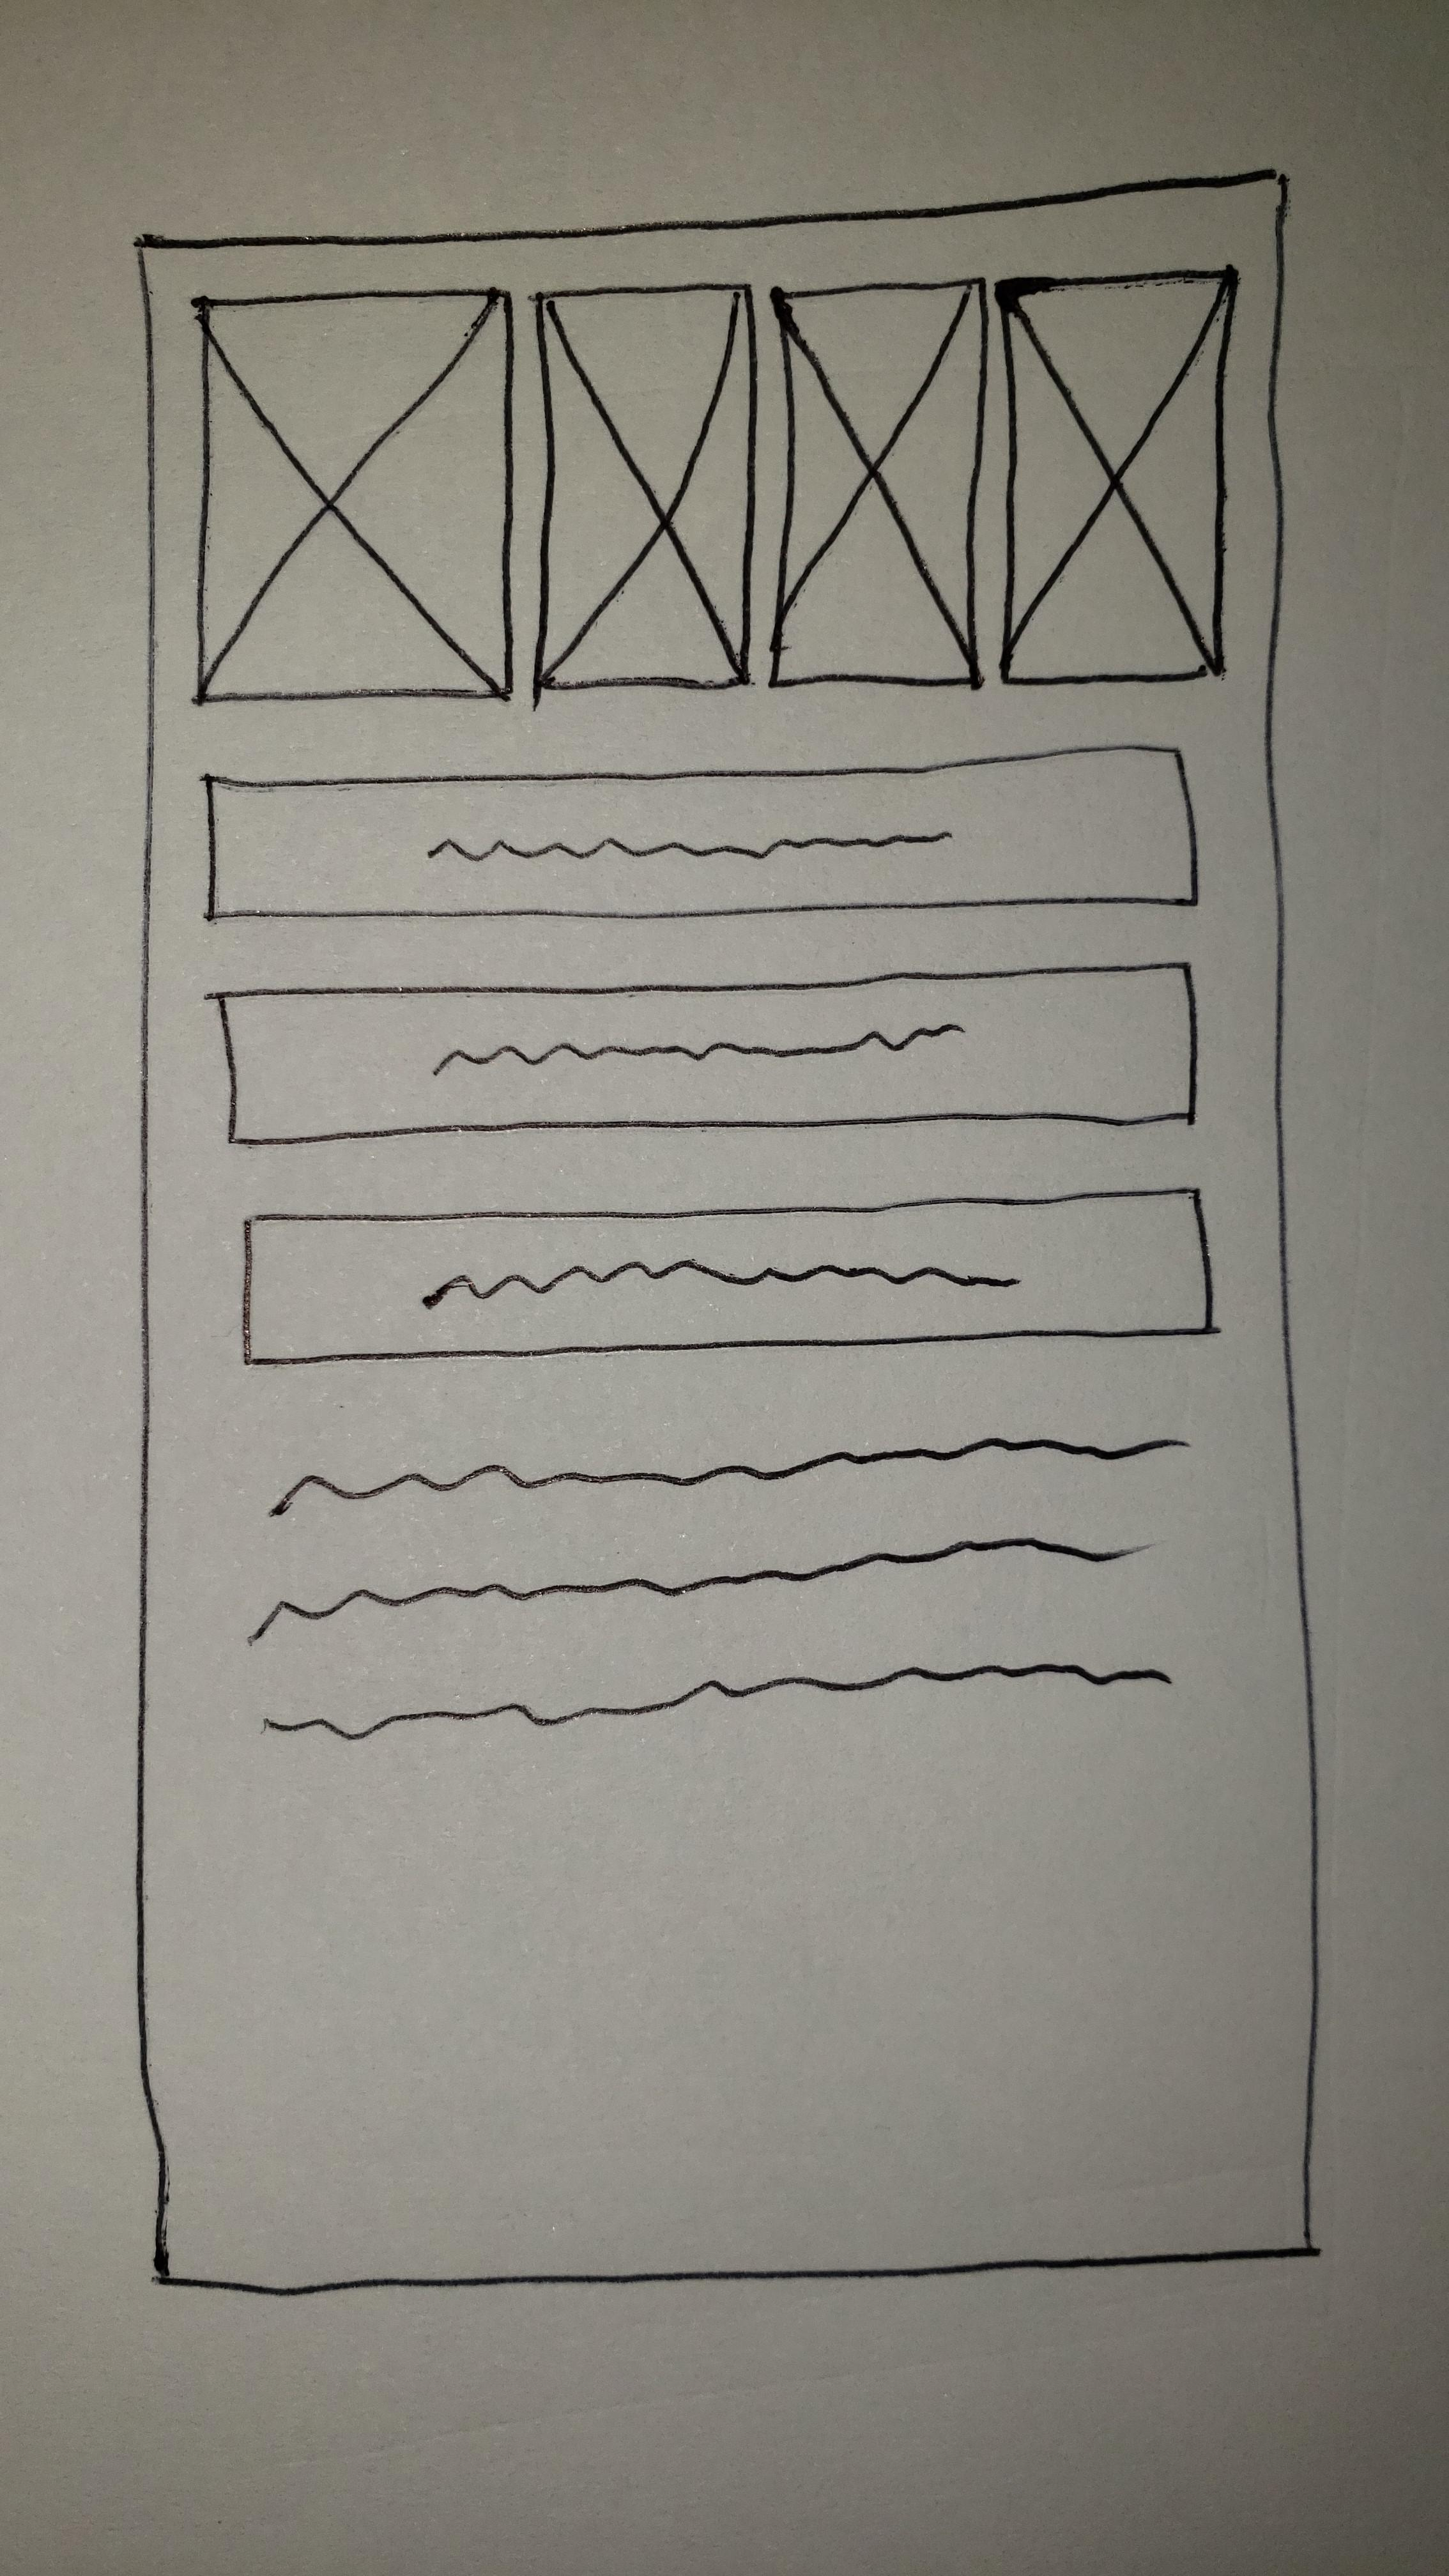Button: (223, 961, 1196, 1150), (207, 740, 1200, 922), (242, 1187, 1215, 1369)
Image: (195, 287, 515, 706), (998, 267, 1238, 686), (533, 281, 759, 692), (768, 276, 989, 688)
Label: (246, 1431, 1194, 1753)
Screen: (134, 170, 1318, 2295)
